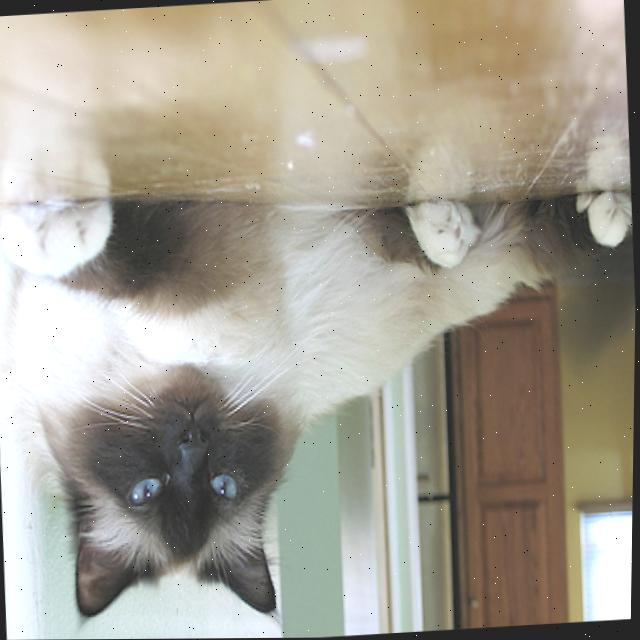Birman: (0, 167, 638, 638)
